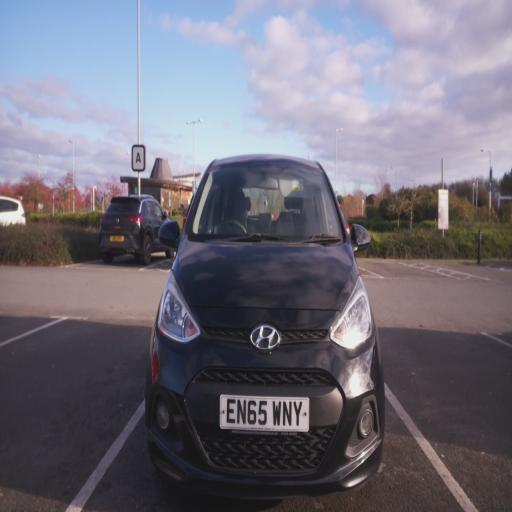numberplates: (220, 395, 309, 431), (110, 236, 123, 242)
